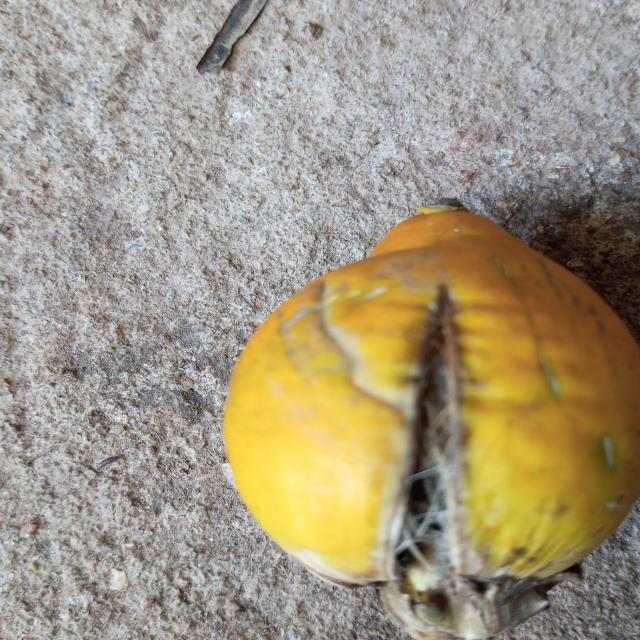damaged: (222, 208, 640, 638)
